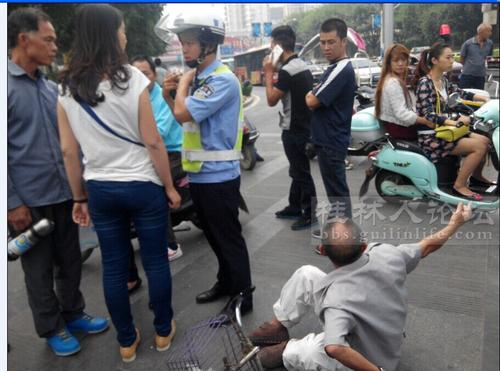10+: (7, 1, 498, 369)
down: (237, 196, 479, 371)
